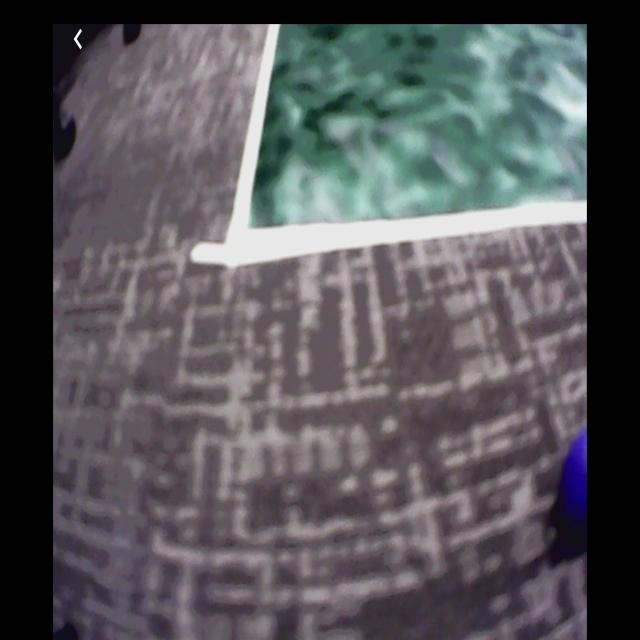ball: (561, 432, 586, 545)
